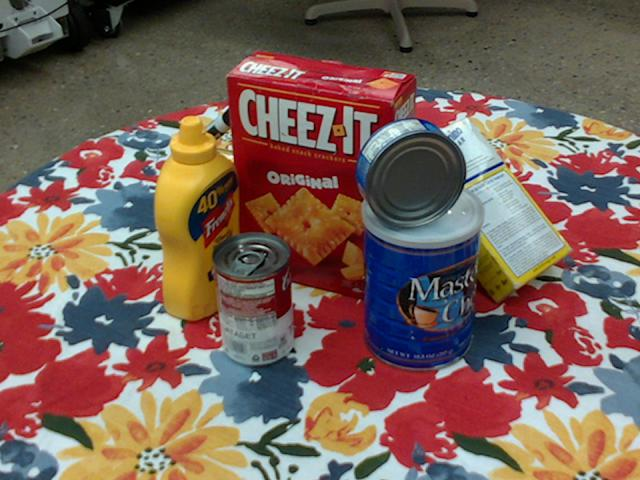cracker_box: (228, 52, 418, 300)
gelatin_box: (224, 143, 307, 210)
large_marker: (170, 100, 250, 169)
master_chef_can: (360, 179, 482, 374)
mug: (373, 135, 460, 236)
mustard_bottle: (153, 117, 243, 321)
potted_meat_can: (157, 147, 245, 262)
sugar_box: (392, 118, 573, 306)
tomato_soup_can: (210, 232, 293, 367)
tuna_fish_can: (357, 118, 468, 229)
